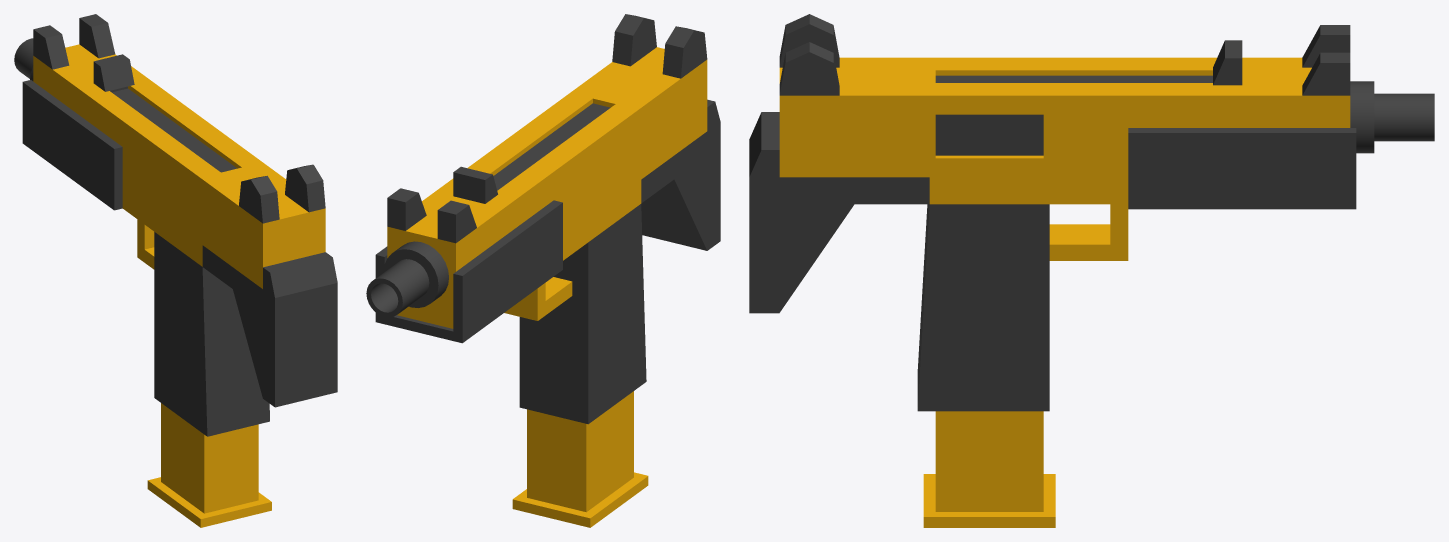
Rendered from uziLongGold.obj.
The picture shows the model from 3 angles, left to right: view 1: azimuth 30°, elevation 25°; view 2: azimuth 150°, elevation 25°; view 3: azimuth 270°, elevation 25°; orthographic projection. The views are drawn at different scales.
Parts seen in each view (by area): view 1: Group; view 2: Group; view 3: Group.
Boxes of the visible parts, bbox=[...] form: Group: bbox=[14, 14, 337, 527]; Group: bbox=[366, 14, 720, 527]; Group: bbox=[749, 14, 1434, 527].
Size of the model in its own units: 0.0727 by 0.333 by 0.4368.
